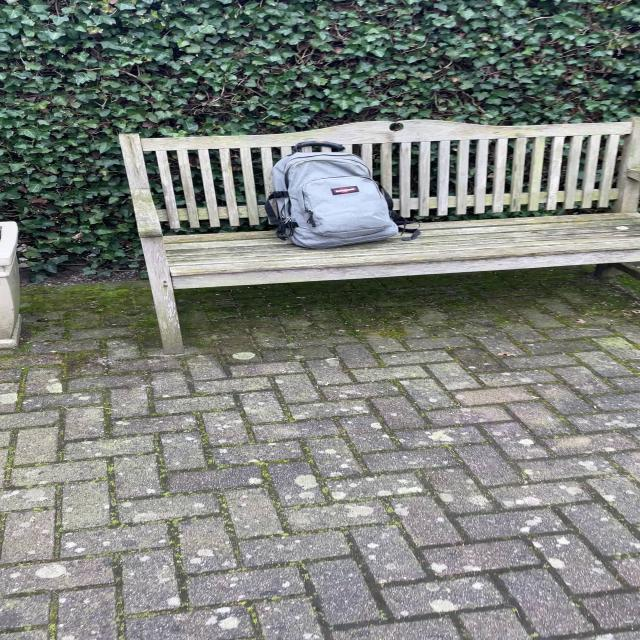backpack: (259, 138, 404, 252)
